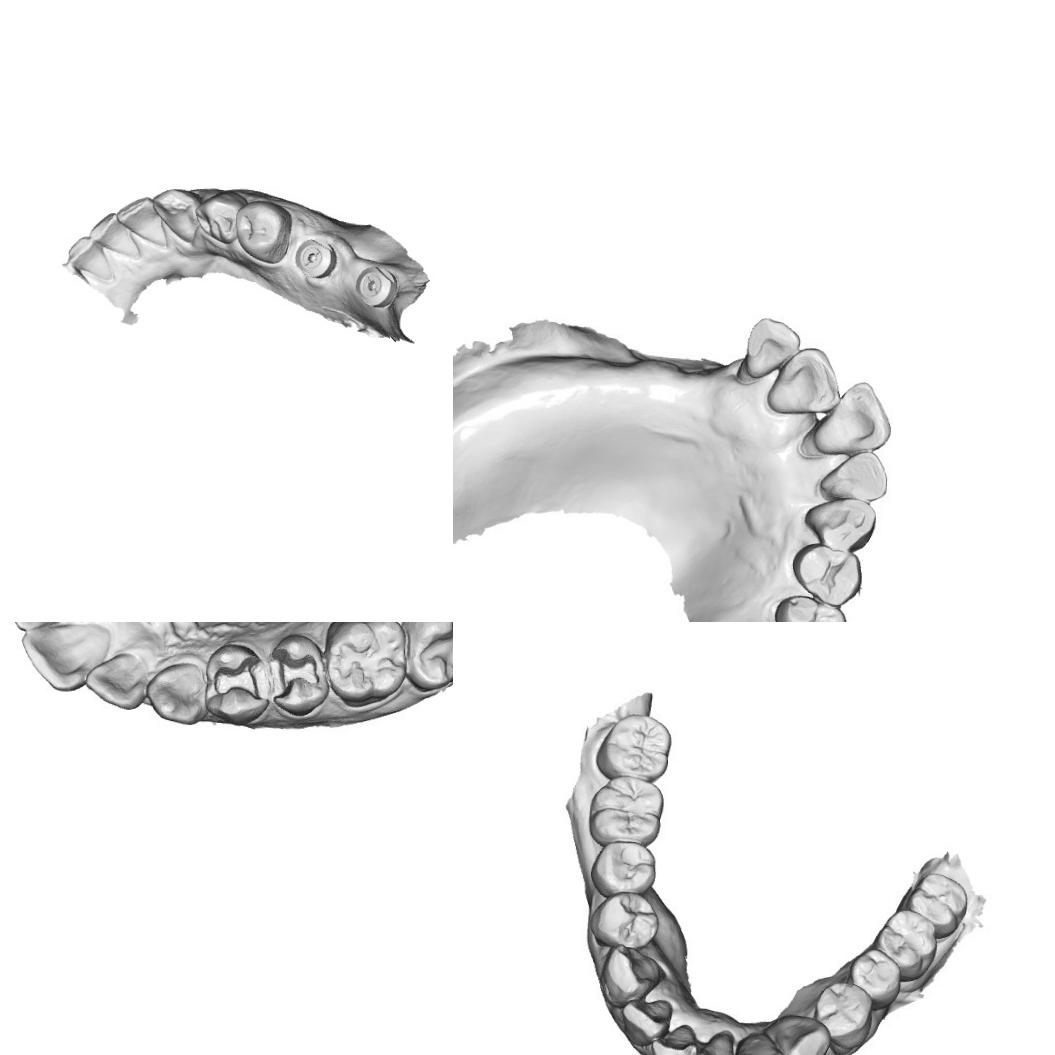canine: (802, 498, 878, 554), (143, 655, 202, 724), (150, 185, 205, 251), (600, 944, 660, 1004), (775, 1013, 829, 1055)
implant_minus: (290, 236, 337, 282), (353, 265, 401, 307)
incisor: (810, 378, 895, 460), (23, 622, 114, 691), (765, 345, 845, 417), (818, 448, 890, 504), (742, 315, 802, 381), (88, 645, 148, 704), (620, 994, 674, 1049), (90, 211, 146, 264), (63, 234, 113, 280), (118, 195, 167, 238), (648, 1023, 700, 1055), (695, 1023, 742, 1055), (740, 1027, 786, 1055)
inlay: (267, 644, 321, 702), (208, 655, 268, 704)
molar: (326, 622, 412, 699), (590, 774, 666, 842), (600, 712, 671, 781), (878, 908, 944, 976), (908, 872, 967, 931), (400, 622, 453, 685)
premolar: (792, 540, 864, 608), (588, 890, 660, 950), (810, 981, 870, 1051), (588, 838, 657, 898), (233, 199, 294, 265), (848, 947, 902, 1007), (772, 593, 850, 622), (196, 194, 244, 241)
